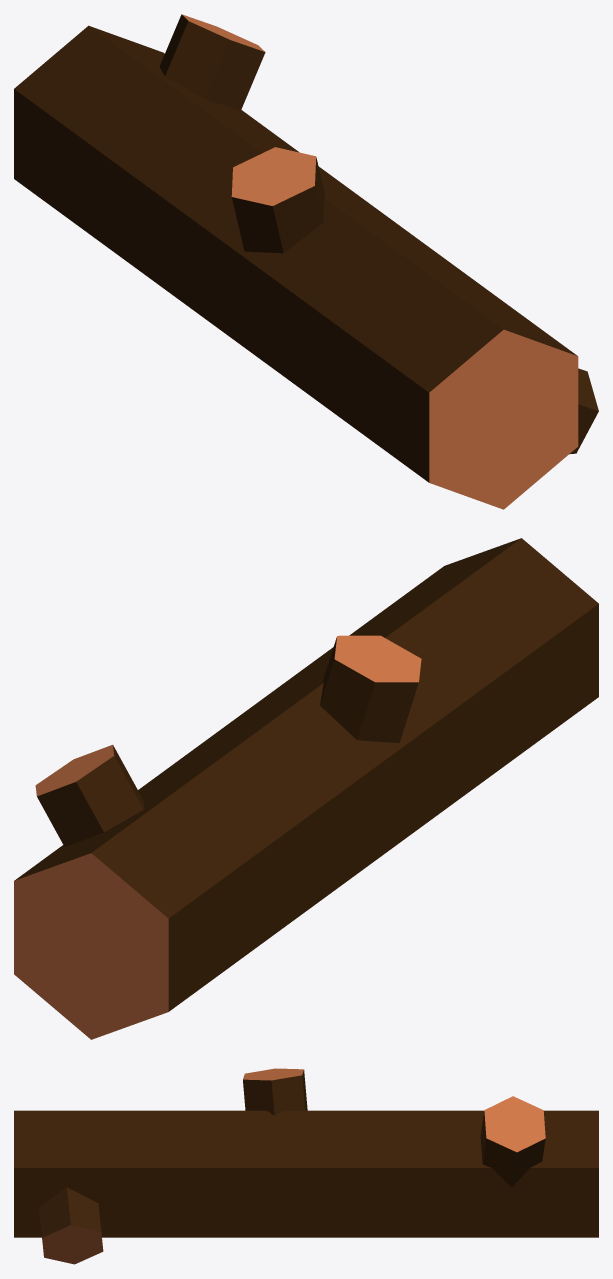
The model's file is woodlog.fbx.
3 renders of one model, top to bottom at view 1: azimuth 30°, elevation 25°; view 2: azimuth 150°, elevation 25°; view 3: azimuth 270°, elevation 25°, orthographic. The views are drawn at different scales.
Visible parts, largest first — view 1: Cube; view 2: Cube; view 3: Cube.
Boxes of the visible parts, x1=… form: Cube: x1=14, y1=14, x2=598, y2=509; Cube: x1=14, y1=538, x2=598, y2=1039; Cube: x1=14, y1=1068, x2=598, y2=1264.
Bounding box in the file's own units: 2.45 × 2.45 × 8.35.
